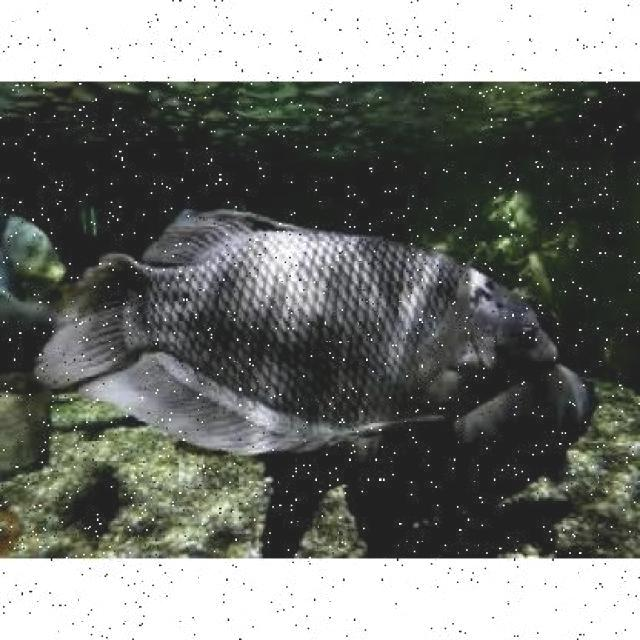gurame: (46, 210, 554, 452)
